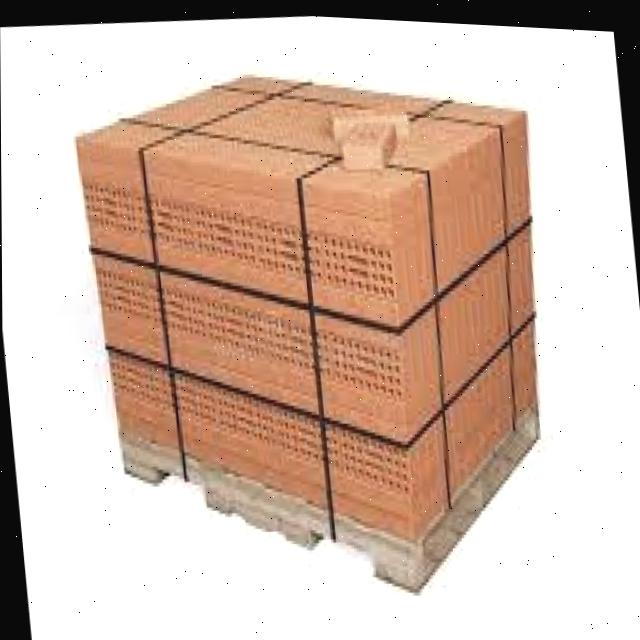bricks: (78, 78, 533, 536)
